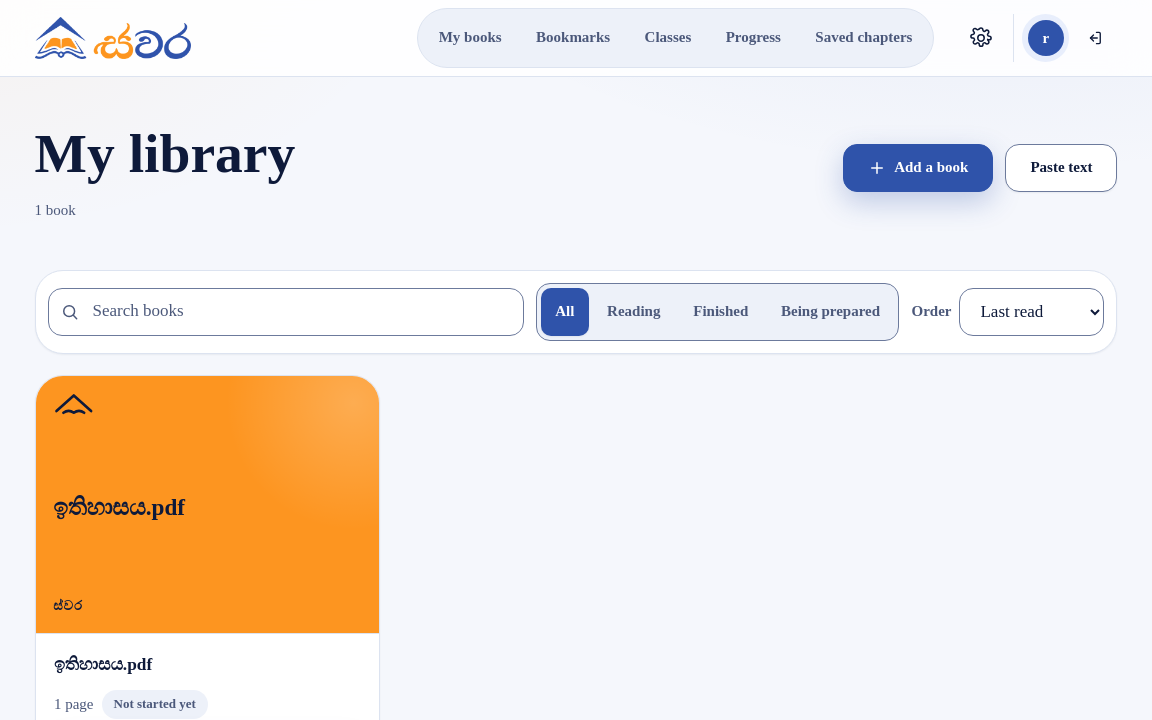
Test: choosing a language › shows the reader's current language as chosen
expect the heading "ඉතිහාසය.pdf" is shown: met, box [54,655,152,674]
Click the 1st button named "Reading settings" at (981, 38), box [957,14,1005,62]
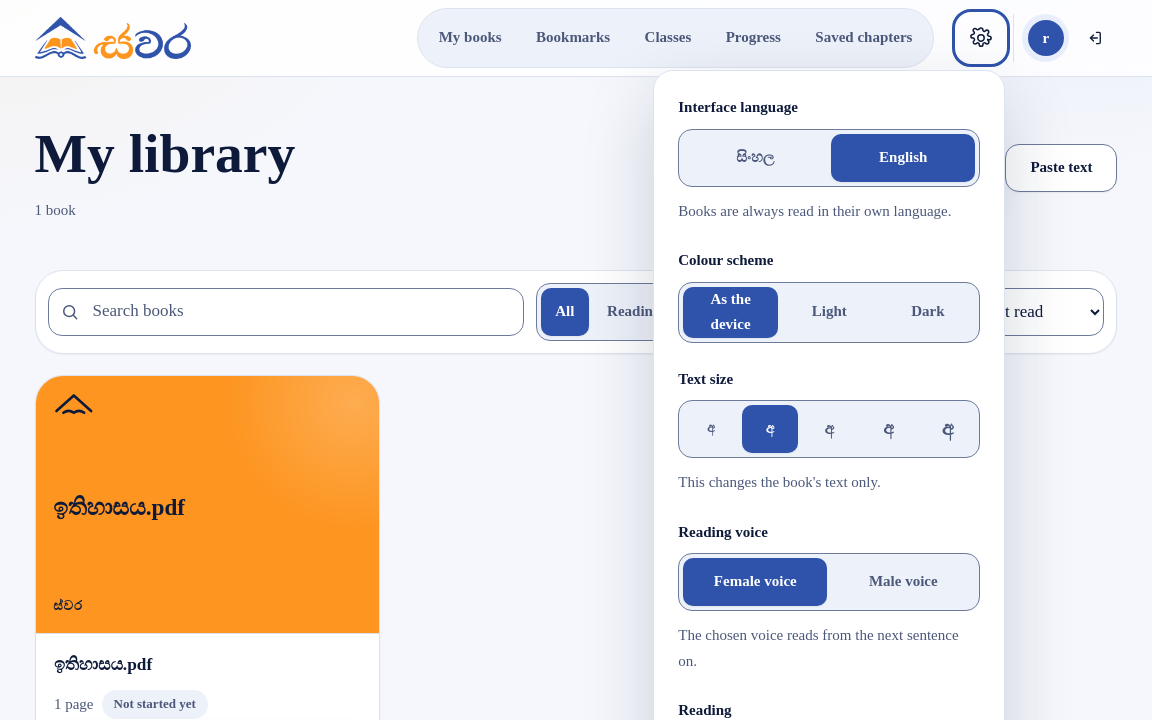
expect the radio button labelled "English" is checked: met, box [831,134,975,182]
